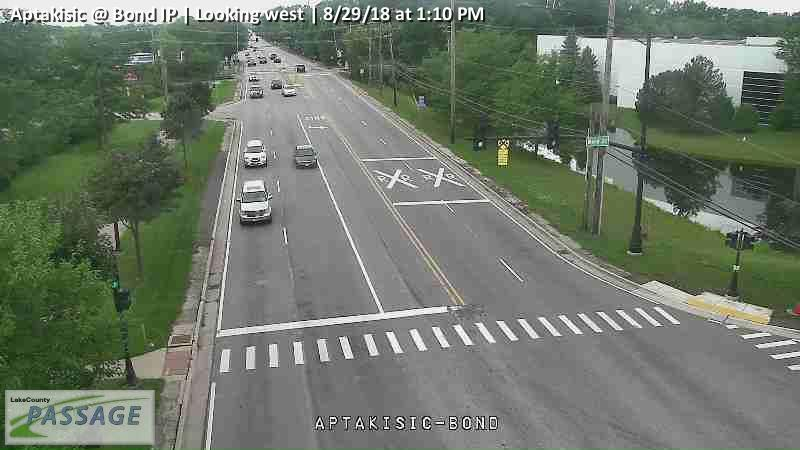SUV: (237, 180, 272, 224)
Sedan: (243, 140, 268, 169), (294, 145, 319, 169), (249, 85, 263, 98), (281, 85, 296, 96), (270, 79, 282, 88), (295, 64, 306, 73), (248, 72, 258, 81), (247, 58, 256, 66), (274, 57, 282, 63)
